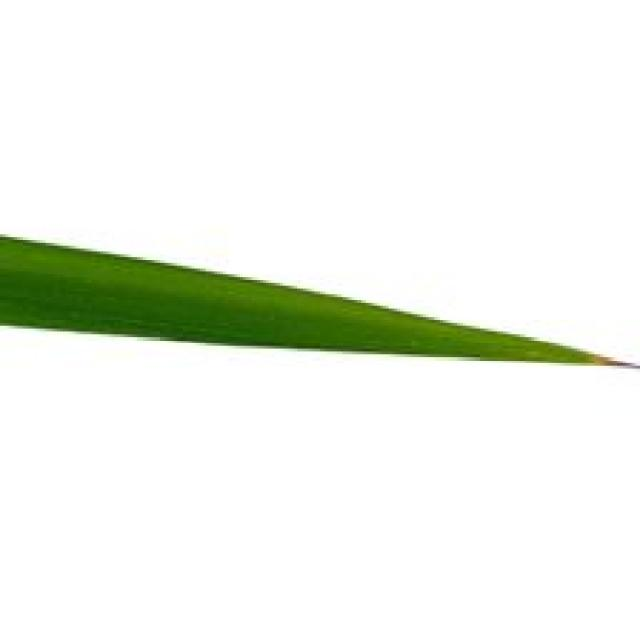Rice___Healthy_Rice_Plant: (0, 236, 637, 367)
